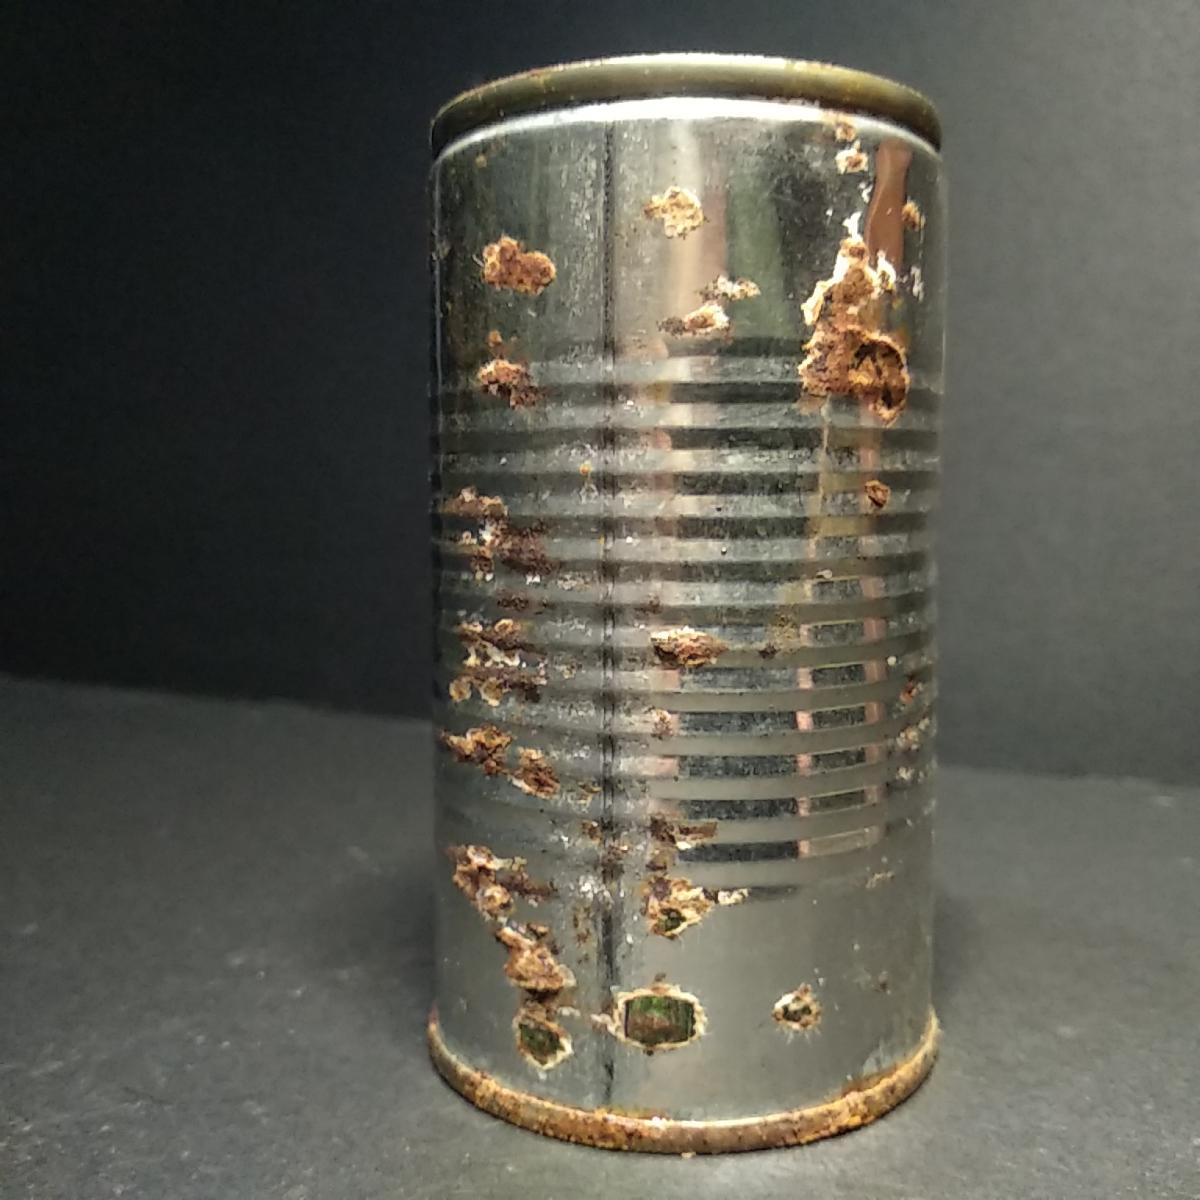Rusted: (408, 44, 986, 1173)
